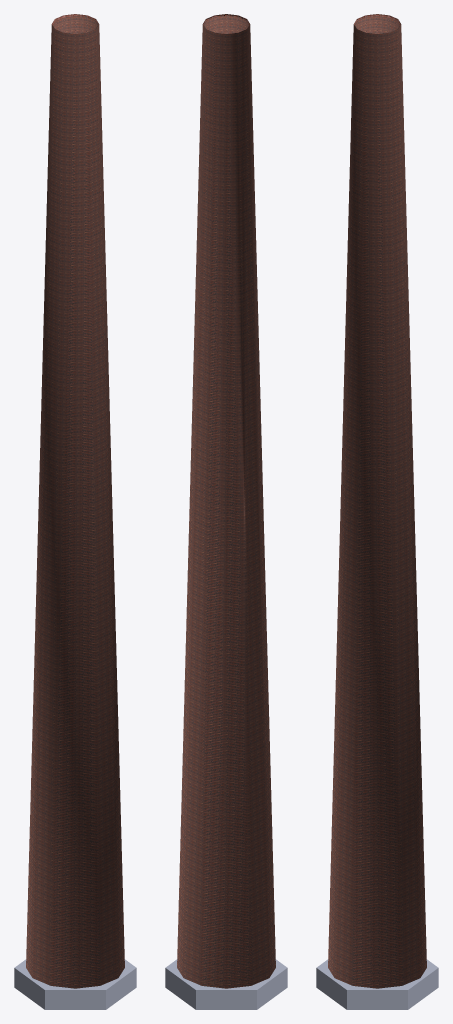
The model's file is tampella.obj.
3 views of the same model, side by side, from view 1: azimuth 30°, elevation 25°; view 2: azimuth 210°, elevation 25°; view 3: azimuth 330°, elevation 25° (orthographic).
Visible parts, largest first — view 1: Cylinder.001; view 2: Cylinder.001; view 3: Cylinder.001.
Part boxes in pixels (x1,y1,x2,y2): Cylinder.001: (14, 14, 136, 1009); Cylinder.001: (165, 14, 287, 1009); Cylinder.001: (316, 14, 438, 1009).
Bounding box in the file's own units: 9.65 × 97 × 11.15.
Materials: 2 (1 with a texture image).
